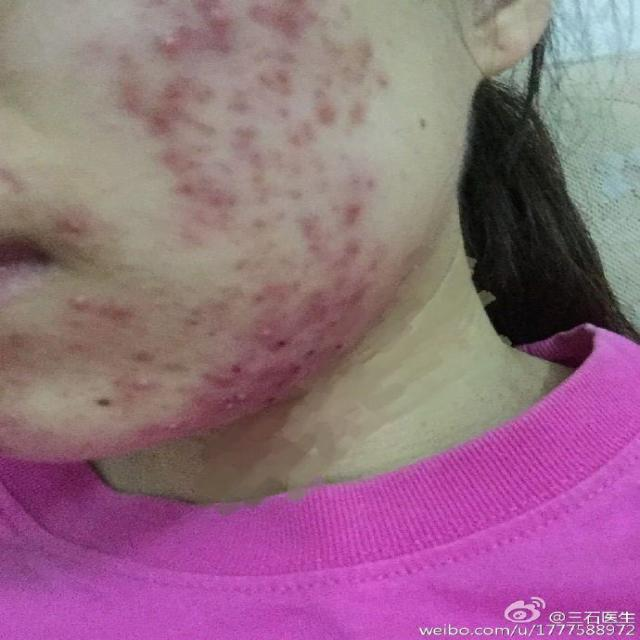nodule: (256, 1, 326, 52), (244, 313, 305, 350), (328, 157, 392, 192), (186, 5, 240, 46), (167, 182, 260, 205), (100, 296, 150, 338), (212, 347, 269, 383), (341, 34, 382, 78), (205, 125, 262, 155), (56, 286, 104, 321), (210, 384, 262, 415), (100, 72, 148, 105), (298, 92, 333, 133), (300, 280, 333, 322), (161, 414, 205, 445), (313, 334, 356, 365), (151, 92, 189, 127), (140, 24, 180, 55), (244, 152, 276, 190), (358, 242, 397, 272), (306, 209, 340, 242), (262, 359, 294, 392), (135, 364, 165, 399), (324, 200, 371, 222), (274, 70, 310, 98), (168, 220, 206, 246), (53, 209, 87, 238), (340, 95, 366, 132), (56, 334, 96, 358), (122, 345, 164, 367), (160, 144, 197, 168), (162, 375, 203, 396), (159, 72, 194, 96), (240, 214, 276, 237), (229, 286, 277, 303), (333, 230, 360, 259), (190, 82, 222, 106), (374, 289, 406, 313), (278, 130, 316, 150), (178, 302, 207, 328), (225, 253, 260, 274), (158, 352, 195, 371), (226, 84, 252, 111), (359, 311, 393, 331), (292, 360, 316, 388), (280, 186, 315, 204), (256, 389, 289, 408), (0, 406, 26, 430), (267, 103, 294, 122), (337, 276, 352, 309), (151, 112, 167, 124), (242, 105, 256, 118)
